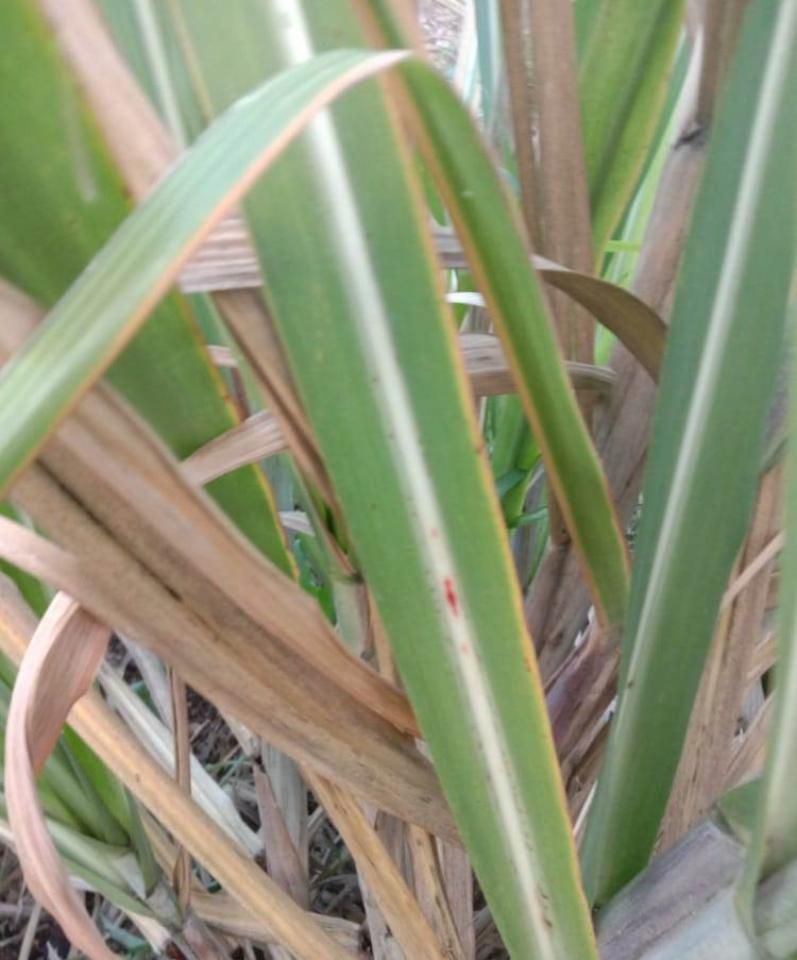RedRot: (443, 577, 462, 620), (429, 526, 441, 540), (459, 644, 471, 657)
Rust: (543, 915, 554, 929), (371, 376, 379, 386), (385, 432, 395, 440), (540, 892, 549, 900), (412, 510, 419, 517), (405, 495, 413, 501)
